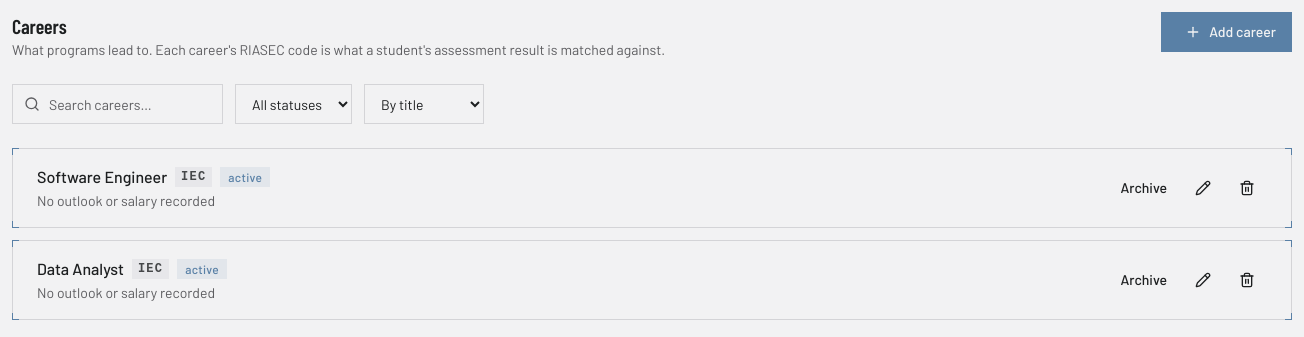
Scenario: CareerListPage › clears the search from the box itself
Expected: the text "Software Engineer" is shown, [37,165,167,189]
Step 1. Type "nurse" into the search field labelled "Search careers…" → (118, 104), box [12,84,223,124]
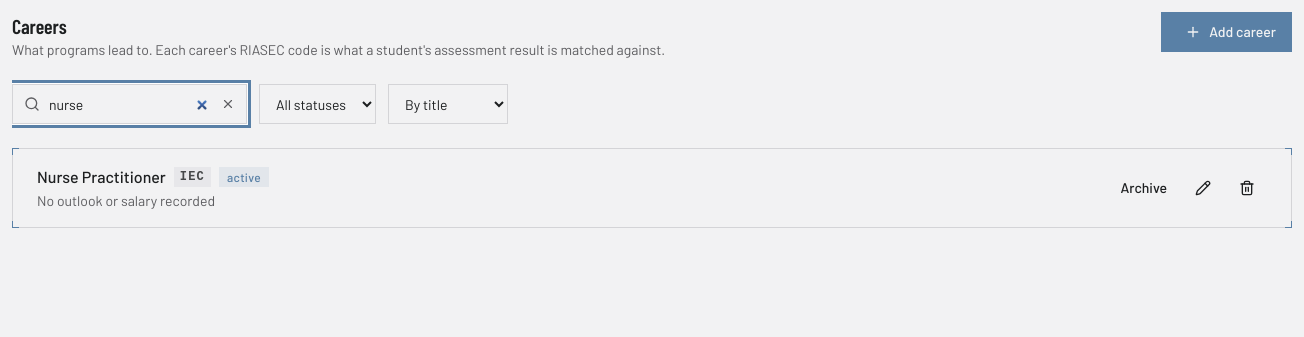
Expected: the text "Nurse Practitioner" is shown, [37,165,166,189]
Step 2. Click the button named "clear search careers" → click(228, 104), box [217,93,239,115]
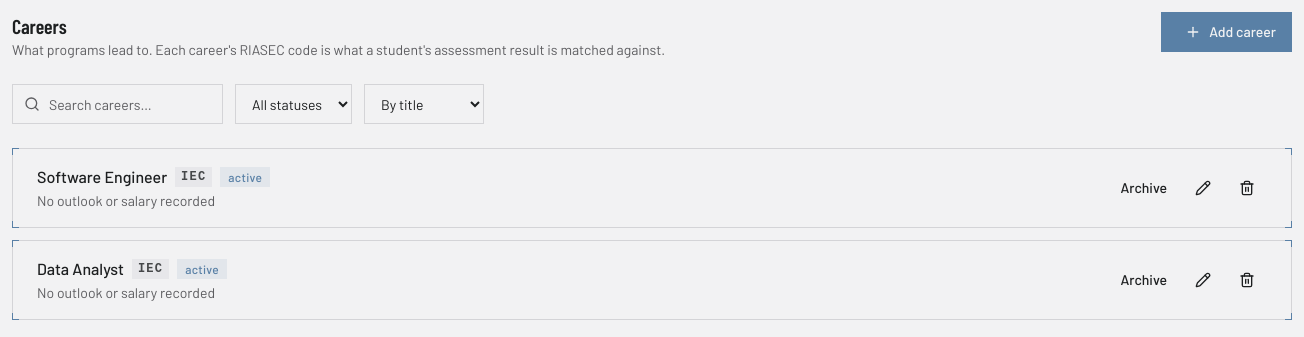
Expected: the search field labelled "Search careers…" is empty, [12,84,223,124]
Expected: the text "Software Engineer" is shown, [37,165,167,189]
Expected: the text "Nurse Practitioner" is gone
